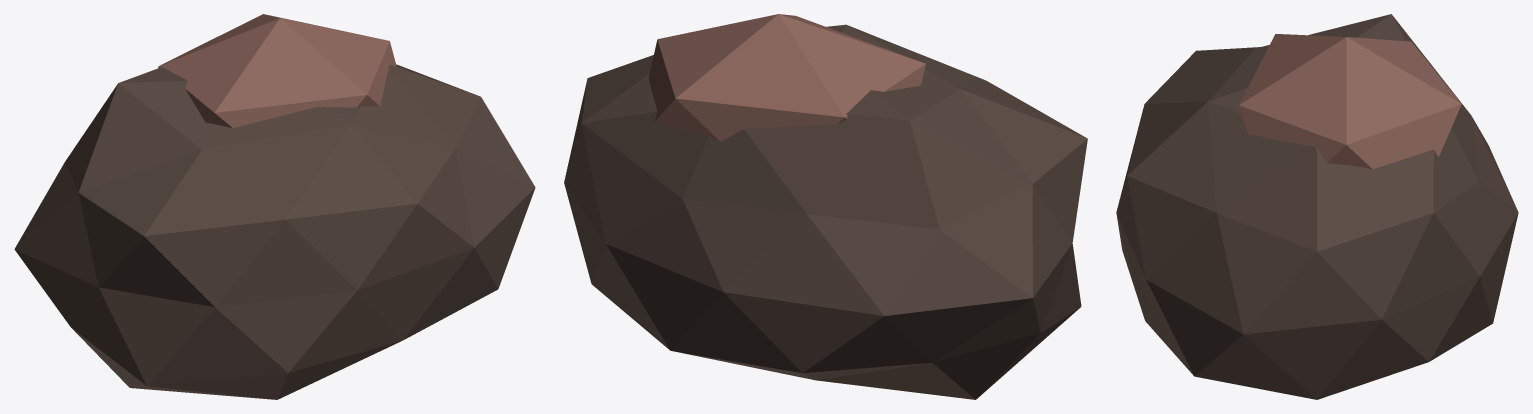
The model's file is granit_1.glb.
3 renders of one model, left to right at view 1: azimuth 30°, elevation 25°; view 2: azimuth 150°, elevation 25°; view 3: azimuth 270°, elevation 25°, orthographic. The views are drawn at different scales.
Visible parts, largest first — view 1: granit_1; view 2: granit_1; view 3: granit_1.
Boxes of the visible parts, bbox=[...] form: granit_1: bbox=[14, 14, 535, 399]; granit_1: bbox=[564, 14, 1087, 399]; granit_1: bbox=[1116, 14, 1518, 399].
Size of the model in its own units: 5.6 by 3.77 by 4.11.
